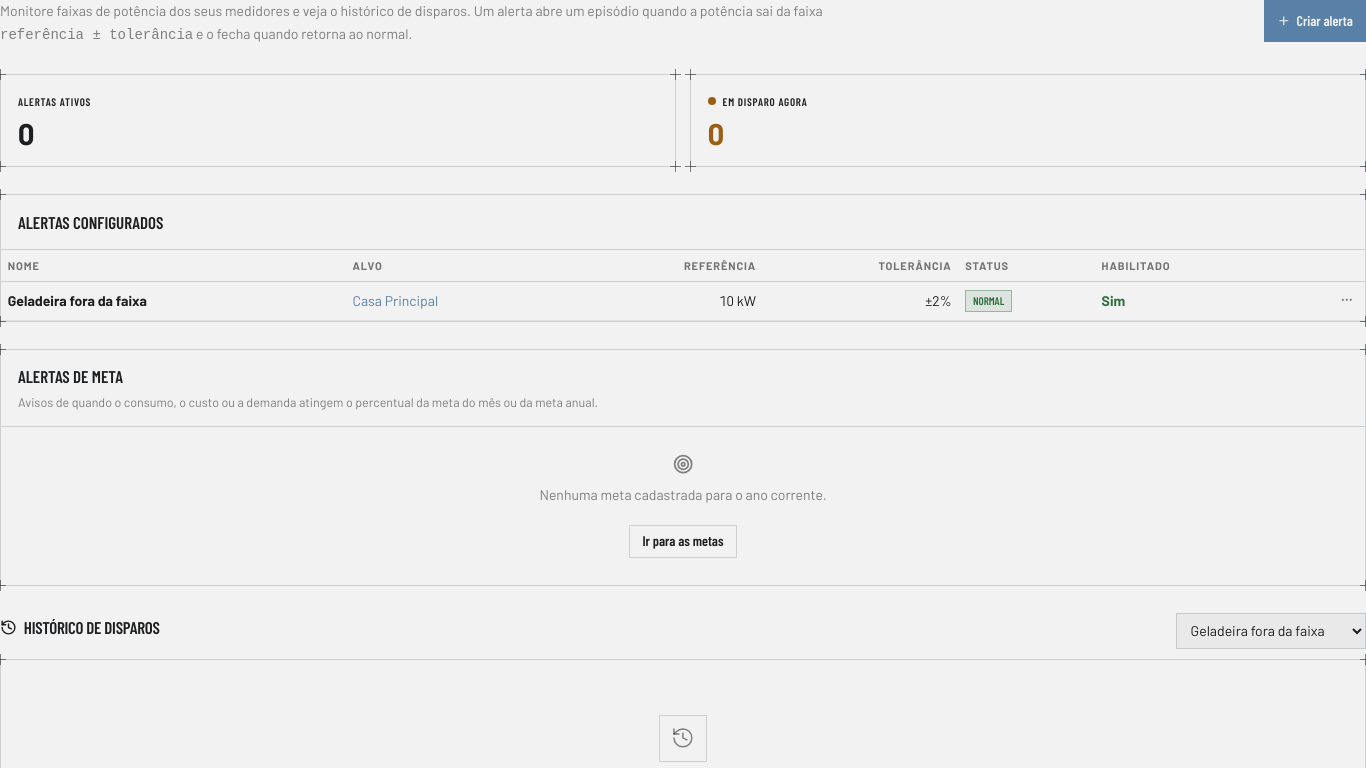
AlertsPage — excluir › pede confirmação antes de excluir
Click the button named "Opções do alerta Geladeira fora da faixa". click: click(1346, 300)
box: top-left (1334, 288), bottom-right (1358, 312)
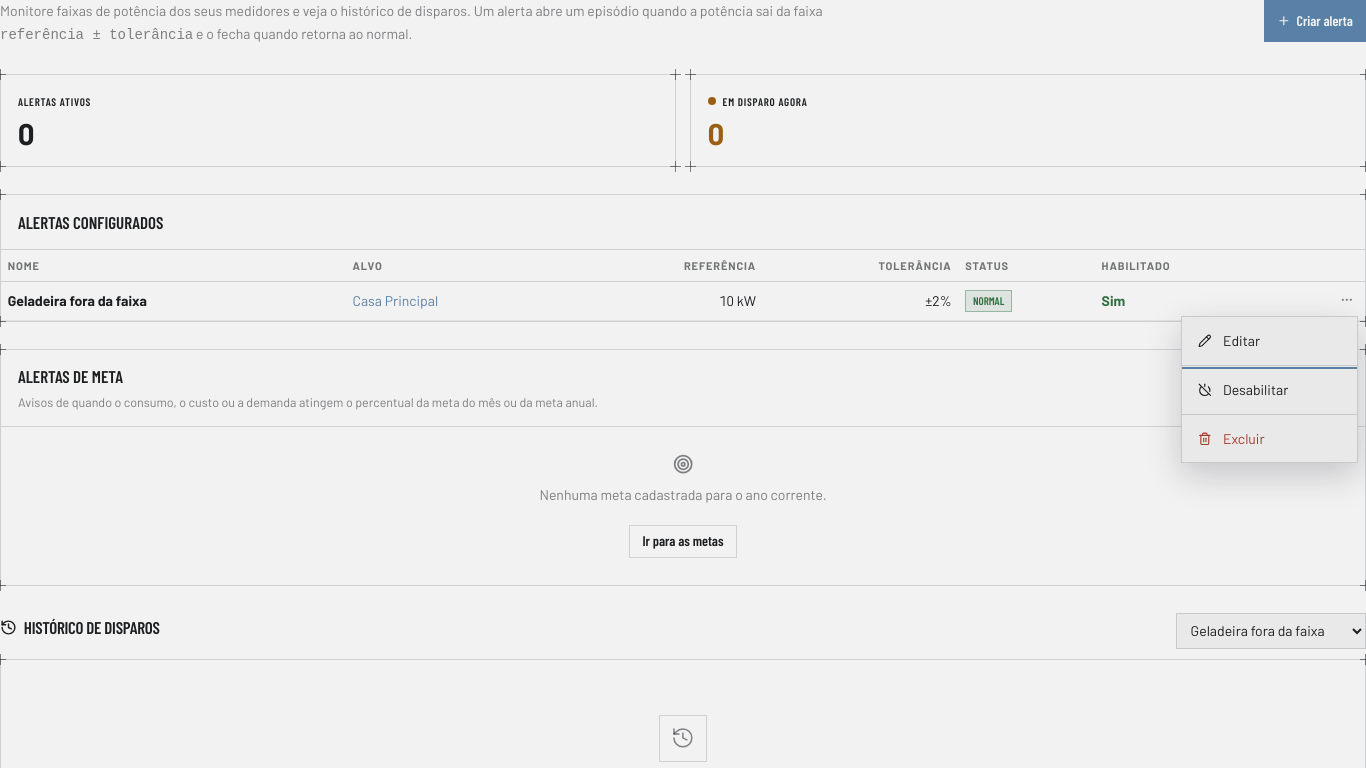
Click the menu item "Excluir". click: click(1270, 438)
box: top-left (1182, 414), bottom-right (1357, 462)
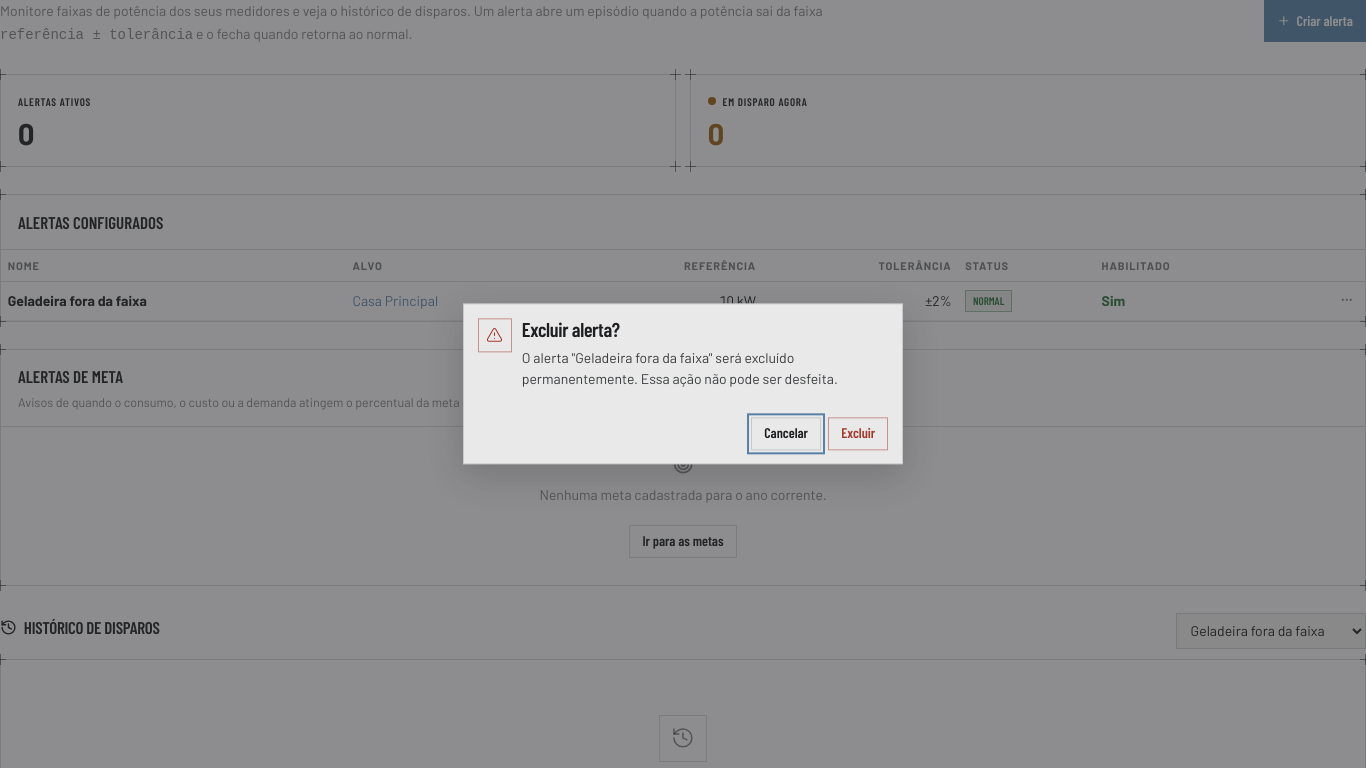
Expected: the heading "Excluir alerta?" is shown, top-left (522, 317), bottom-right (620, 341)
